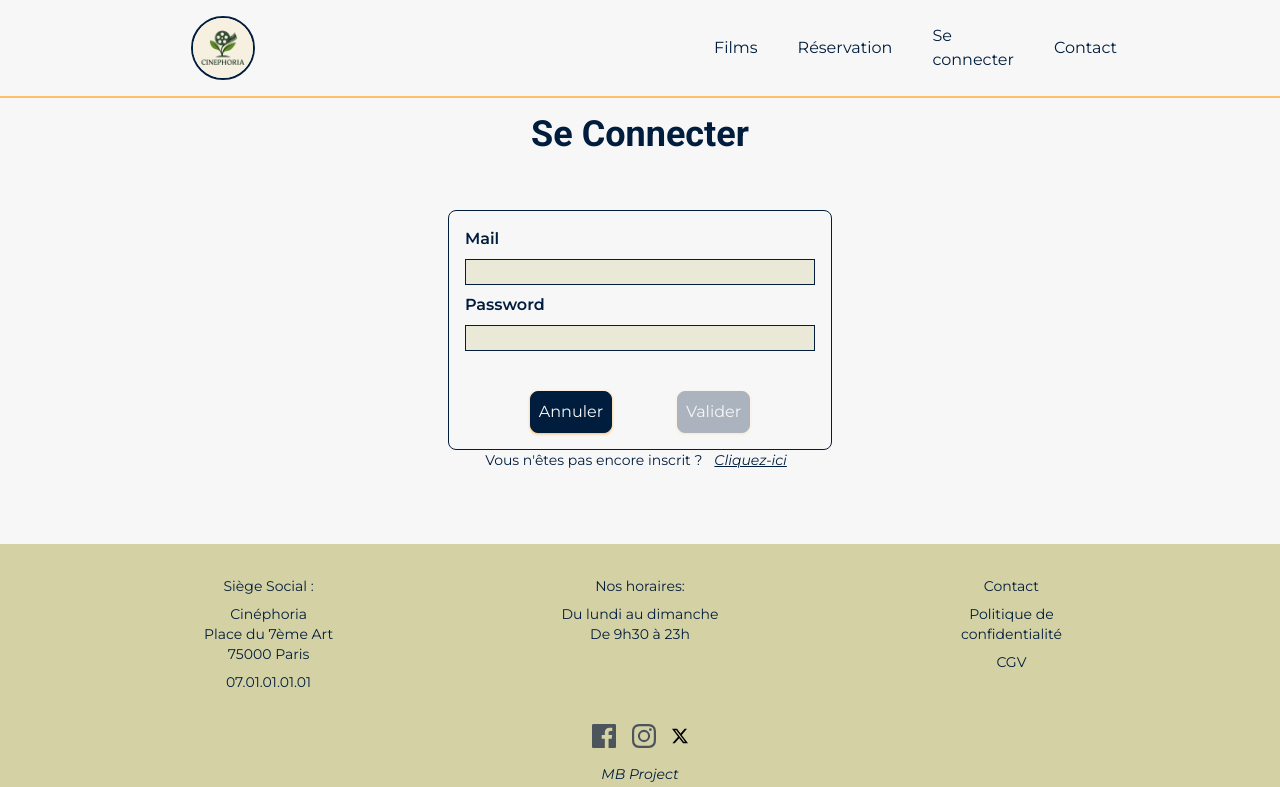
it: Login Flow › should display alert message when wrong pattern input
The width and height of the screenshot is (1280, 787).
Type "test.usergmail.com" into the field. click: (640, 272)
box: [465,259,815,285]
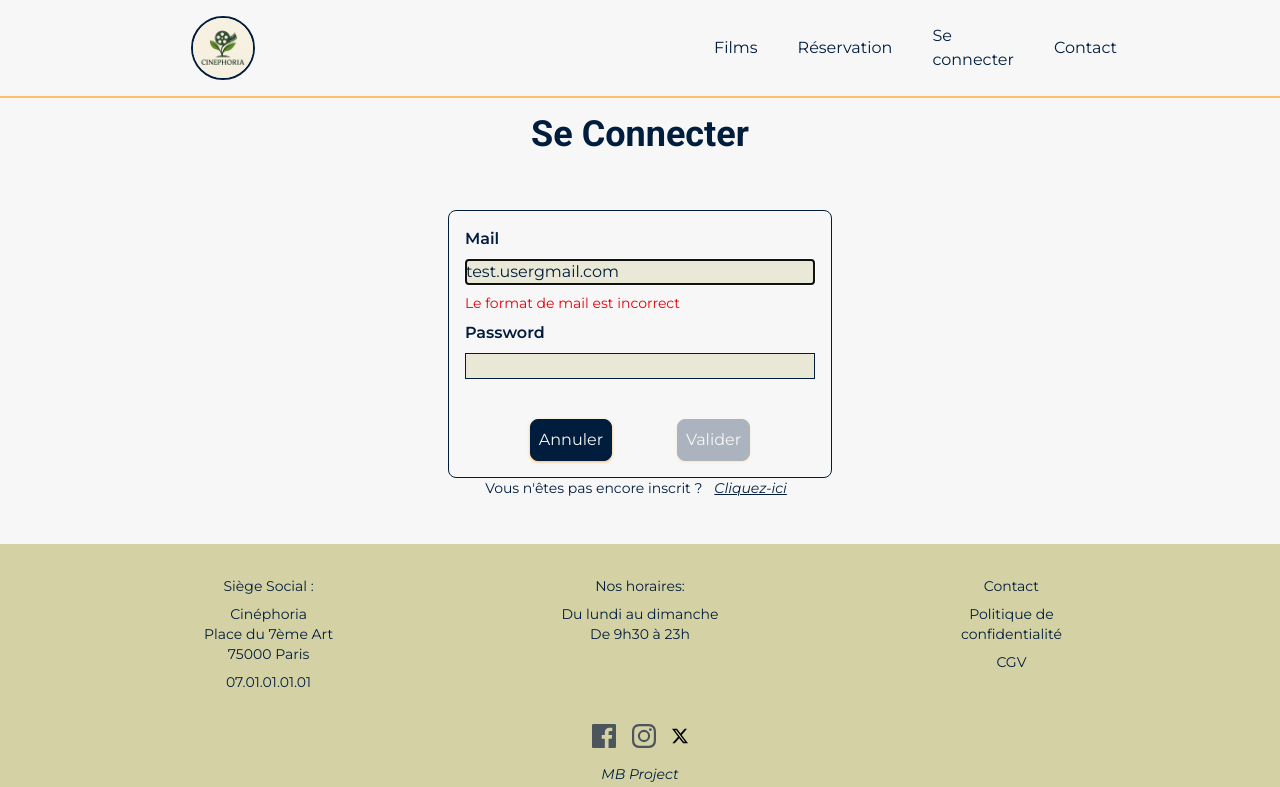
Type "Qsdfghjklm&" into the password field. click: (640, 366)
box: [465,353,815,379]
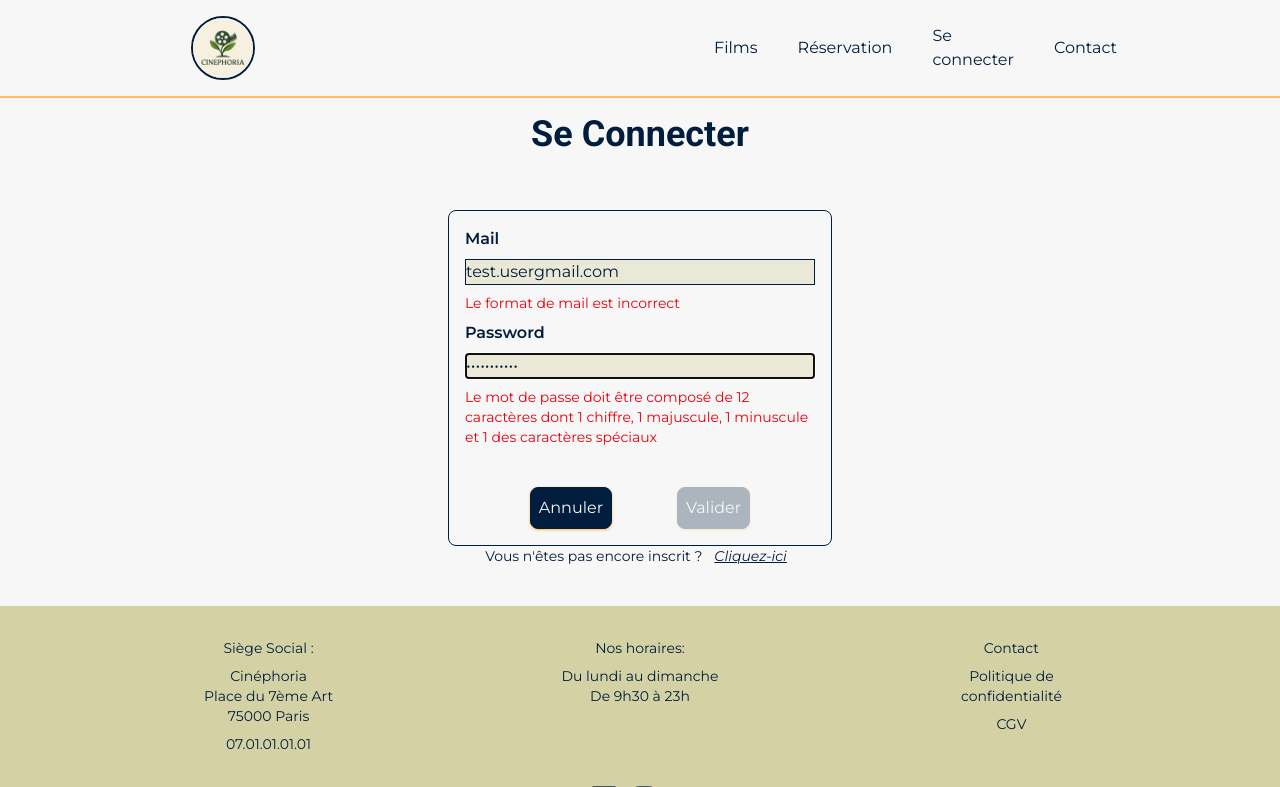
Expected: the button with test id "submit-form-btn" is disabled, [677,487,750,529]
Now the text "Le format de mail est incorrect" is shown, box [465,294,680,312]
Now the text with test id "pattern-pwd-msg" is shown, box [465,387,815,447]
